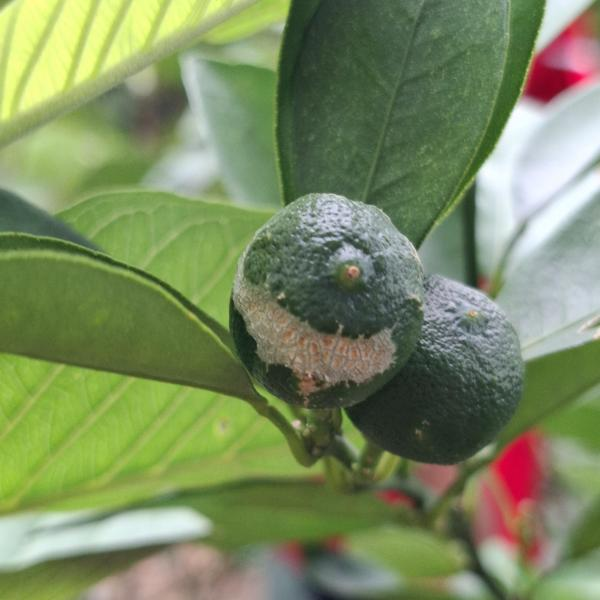Scab: (221, 179, 430, 434), (334, 262, 530, 485)
